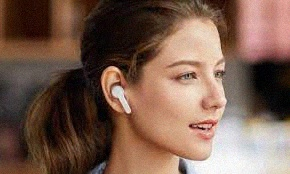earphone: (101, 65, 132, 115)
